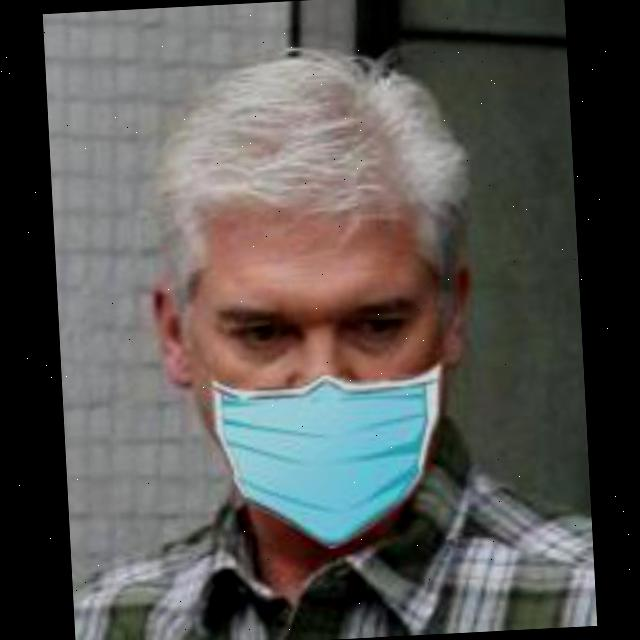suspicion: (140, 97, 480, 554)
